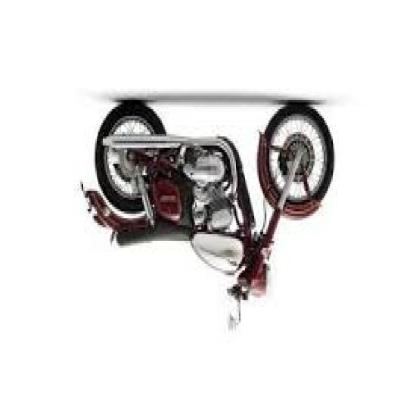bike: (85, 98, 336, 323)
